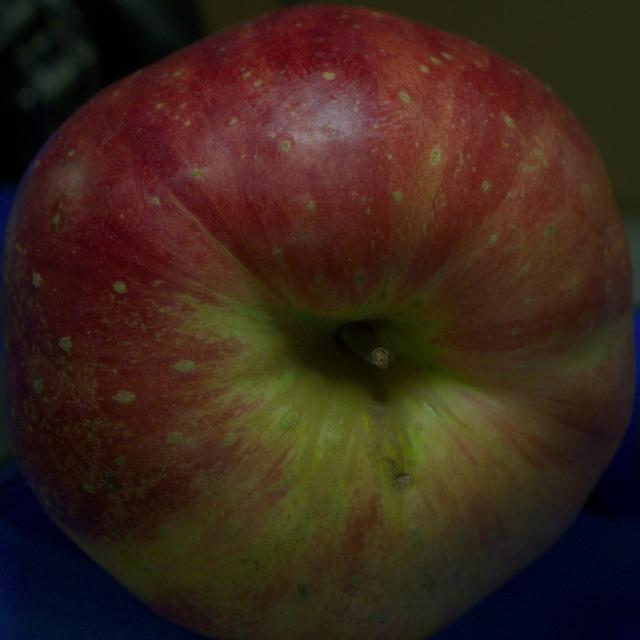apple: (2, 6, 634, 639)
pest: (394, 473, 412, 488)
